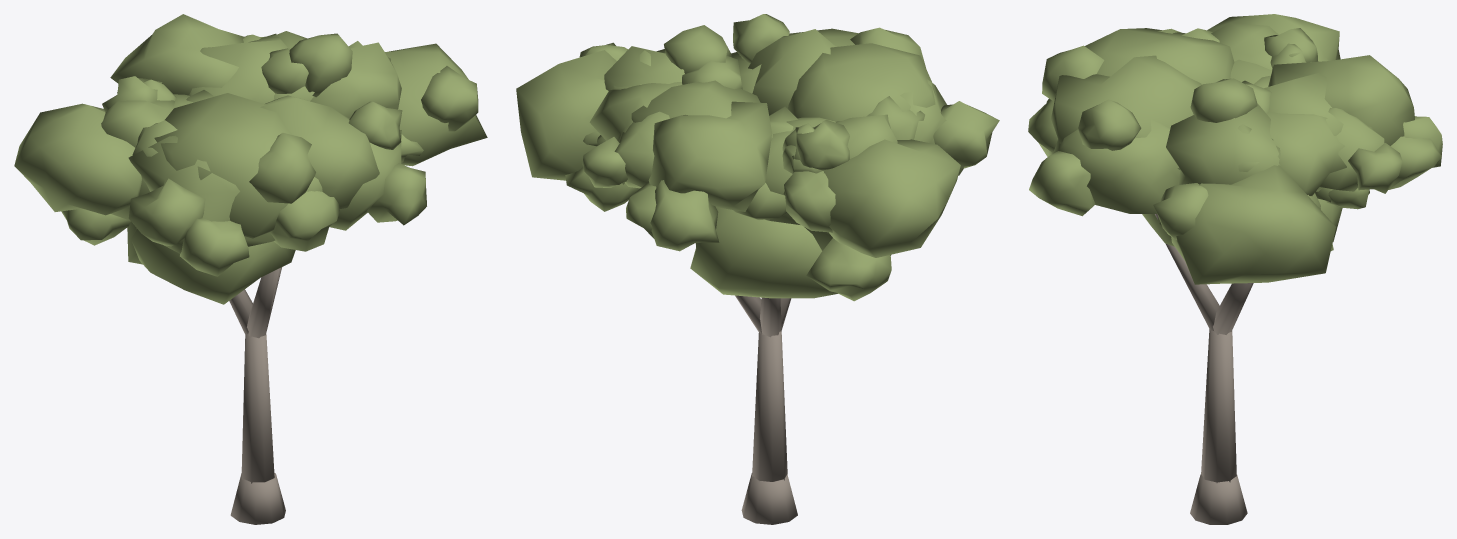
File: Alamo_A.fbx
3 renders of one model, left to right at view 1: azimuth 30°, elevation 25°; view 2: azimuth 150°, elevation 25°; view 3: azimuth 270°, elevation 25°, orthographic.
Visible parts, largest first — view 1: Alamo_A_LOD0; view 2: Alamo_A_LOD0; view 3: Alamo_A_LOD0.
Boxes of the visible parts, box(x1,y1,x2,y2) form: Alamo_A_LOD0: box(14, 14, 487, 524); Alamo_A_LOD0: box(516, 14, 999, 524); Alamo_A_LOD0: box(1028, 14, 1442, 524).
Size of what is drawn, in the model's own units: 14.85 by 15.35 by 12.4.
